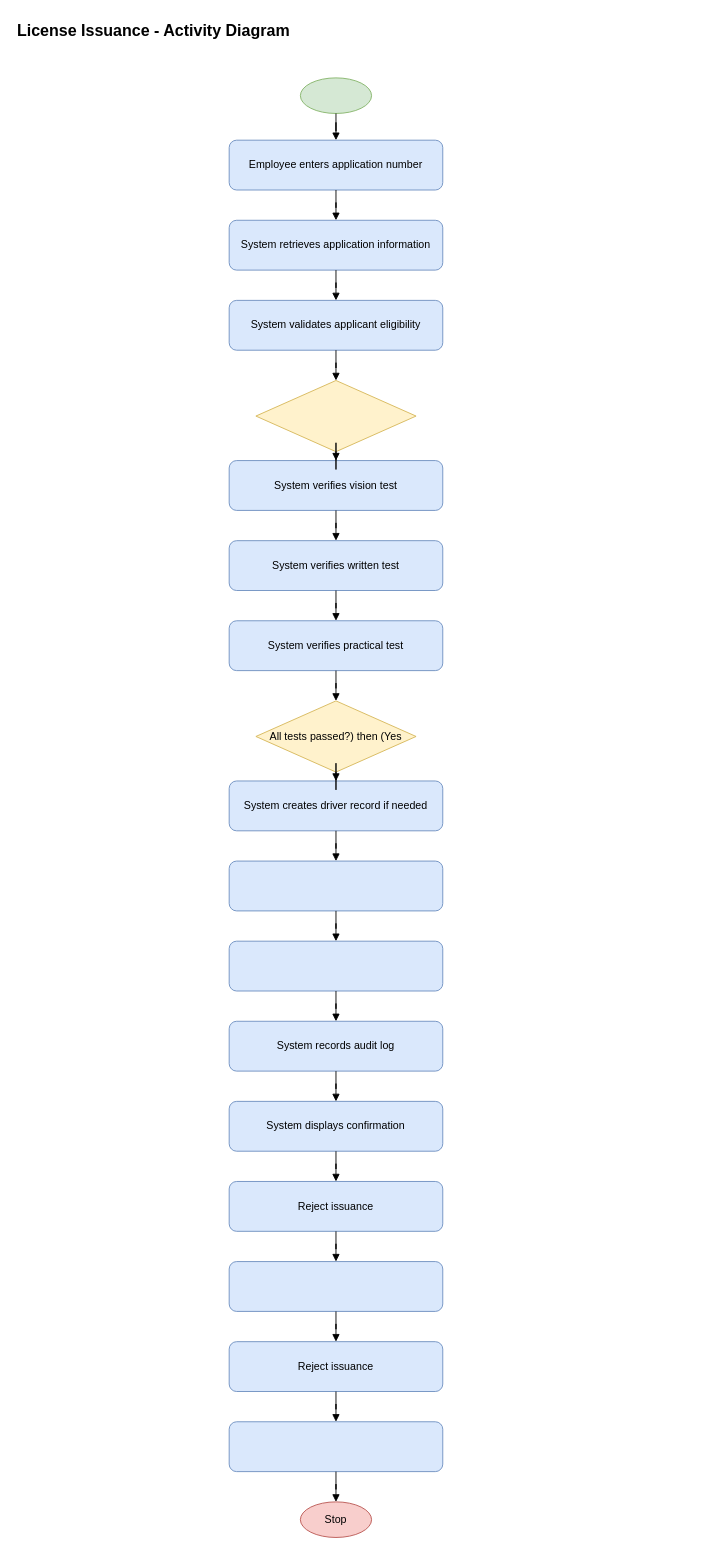
The diagram is 707 pixels wide and 1553 high, and some of its shapes have lost their labels. Here are the shapes that lost their labels. From the top down, the centre of each, then its label:
the point at 335,95: Start
the point at 335,416: Applicant eligible?) then (Yes
the point at 335,885: System generates unique license number
the point at 335,965: System saves issued license
the point at 335,1286: Display test requirement message
the point at 335,1446: Display eligibility error
